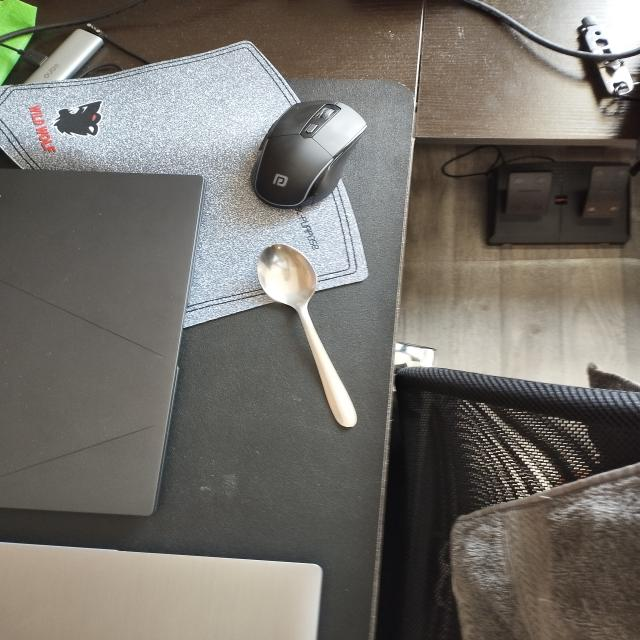Mouse: (226, 95, 396, 218)
Spoon: (236, 241, 385, 444)
